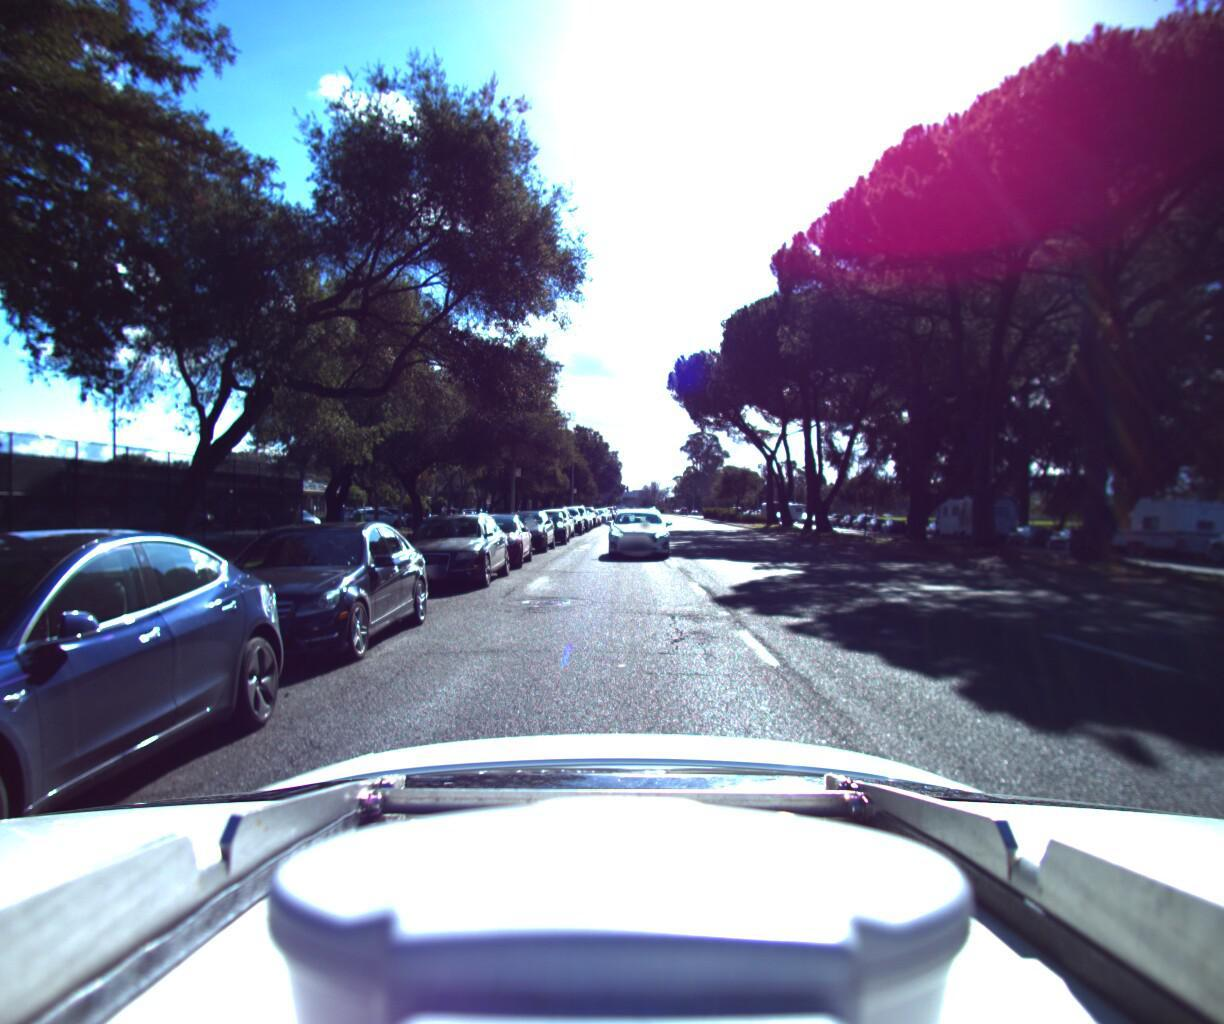car: (0, 516, 318, 1024), (146, 511, 442, 683), (382, 505, 514, 589), (444, 504, 537, 567), (603, 504, 671, 558), (492, 503, 558, 549), (521, 503, 570, 541), (1195, 511, 1224, 569), (999, 516, 1062, 541), (533, 500, 576, 534)
other_vehicle: (1079, 486, 1224, 557), (930, 485, 1023, 535)
